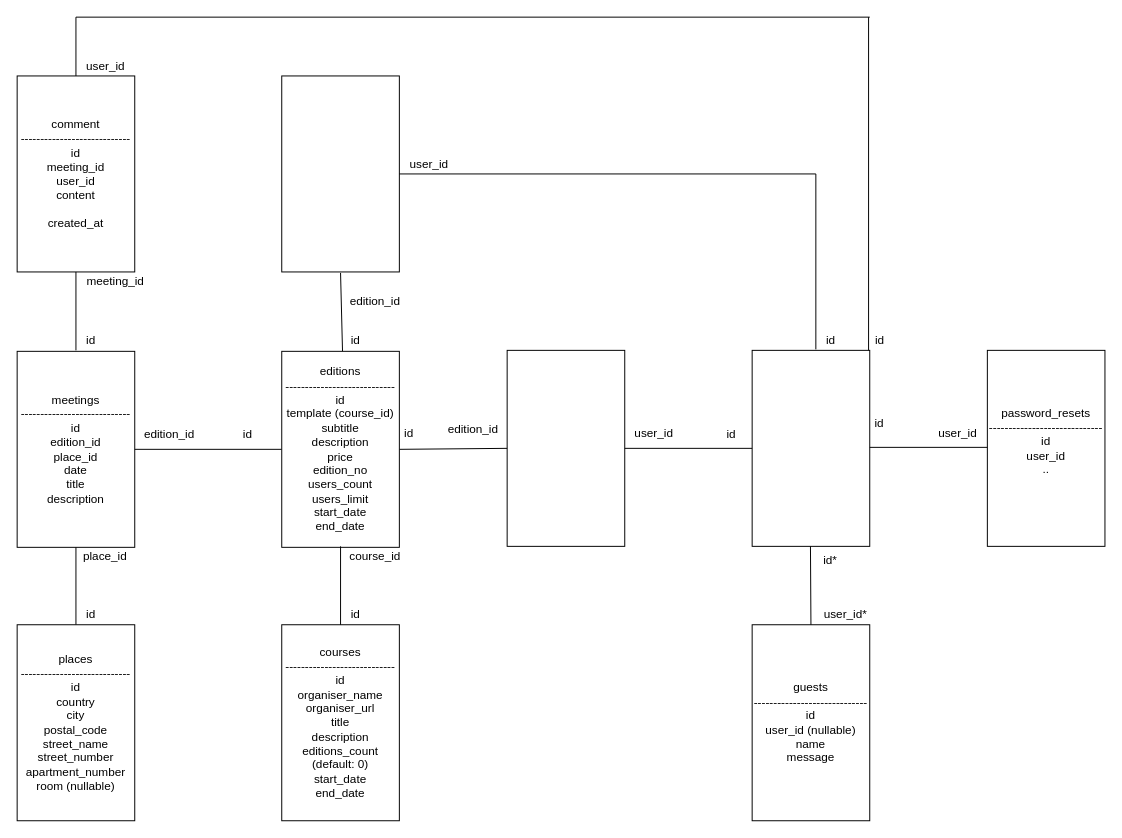
Some shapes in this 1122 by 838 pixel diagram are drawn without their labels. Here are the shapes that lost their labels. From the top down, the centre of each, then its label:
[340,173]: students ---------------------------- id user_id edition_id
[565,447]: payments ---------------------------- id user_id edition_id amount
[810,447]: users ---------------------------- id name surname address password email
